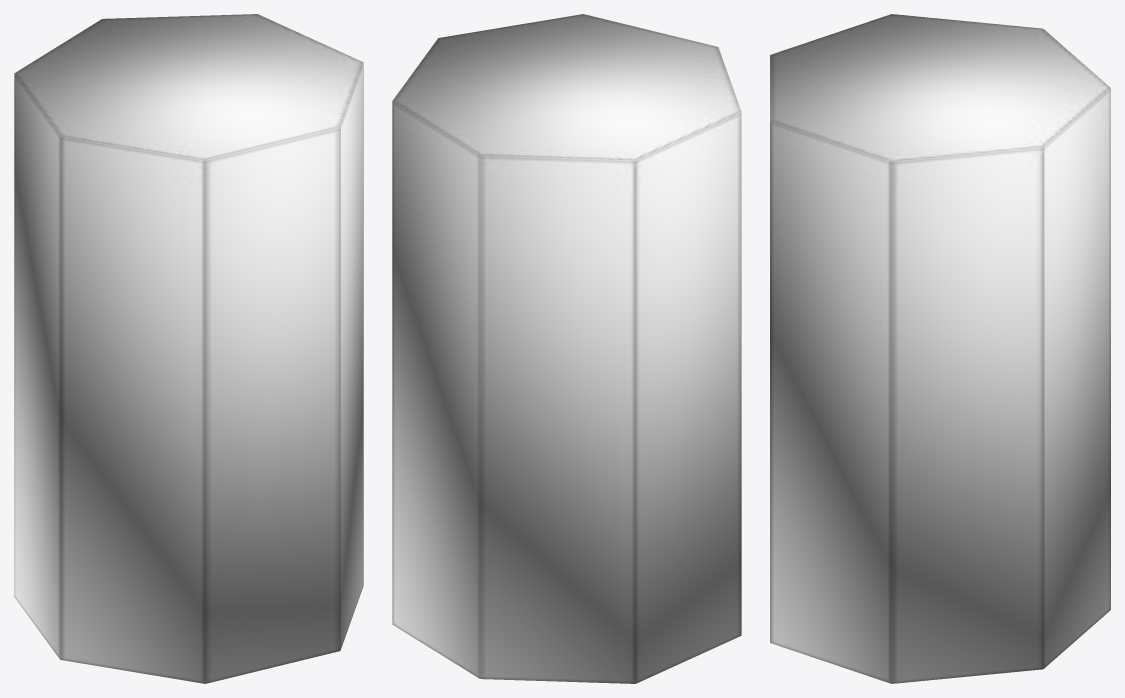
The model's file is beer-can.fbx.
3 renders of one model, left to right at view 1: azimuth 30°, elevation 25°; view 2: azimuth 150°, elevation 25°; view 3: azimuth 270°, elevation 25°, orthographic.
Parts seen in each view (by area): view 1: beer-can; view 2: beer-can; view 3: beer-can.
Boxes of the visible parts, x1,y1,x2,y2 form: beer-can: [14, 14, 363, 683]; beer-can: [392, 14, 741, 683]; beer-can: [770, 14, 1110, 683].
Bounding box in the file's own units: 567 × 935 × 553.
